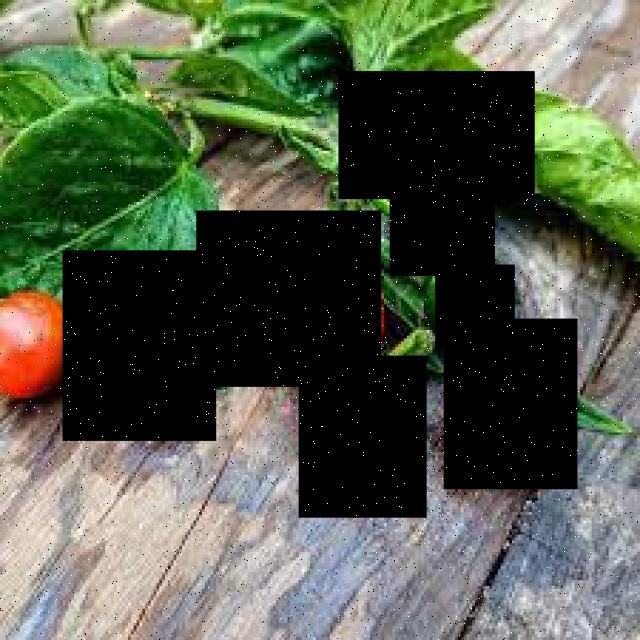Akabare_Khursani: (197, 213, 381, 389), (63, 250, 217, 441), (341, 70, 537, 200), (444, 322, 579, 492), (298, 358, 427, 520), (390, 176, 495, 278), (3, 276, 65, 438), (435, 267, 515, 349)
